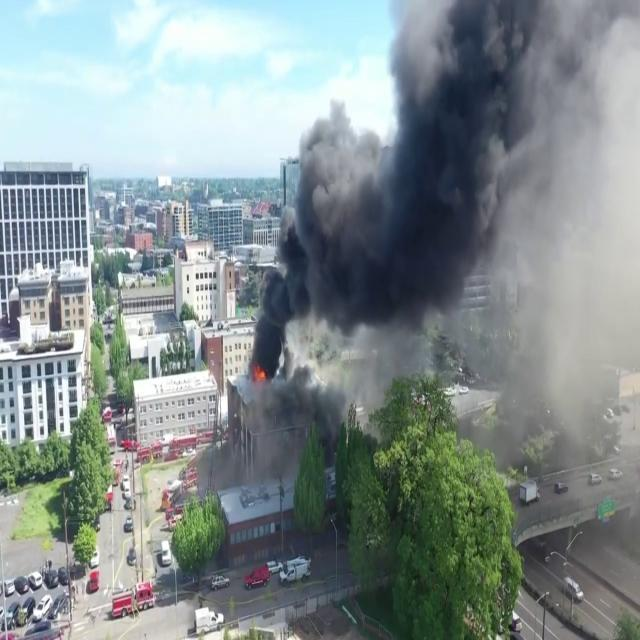Smoke: (252, 0, 636, 385)
